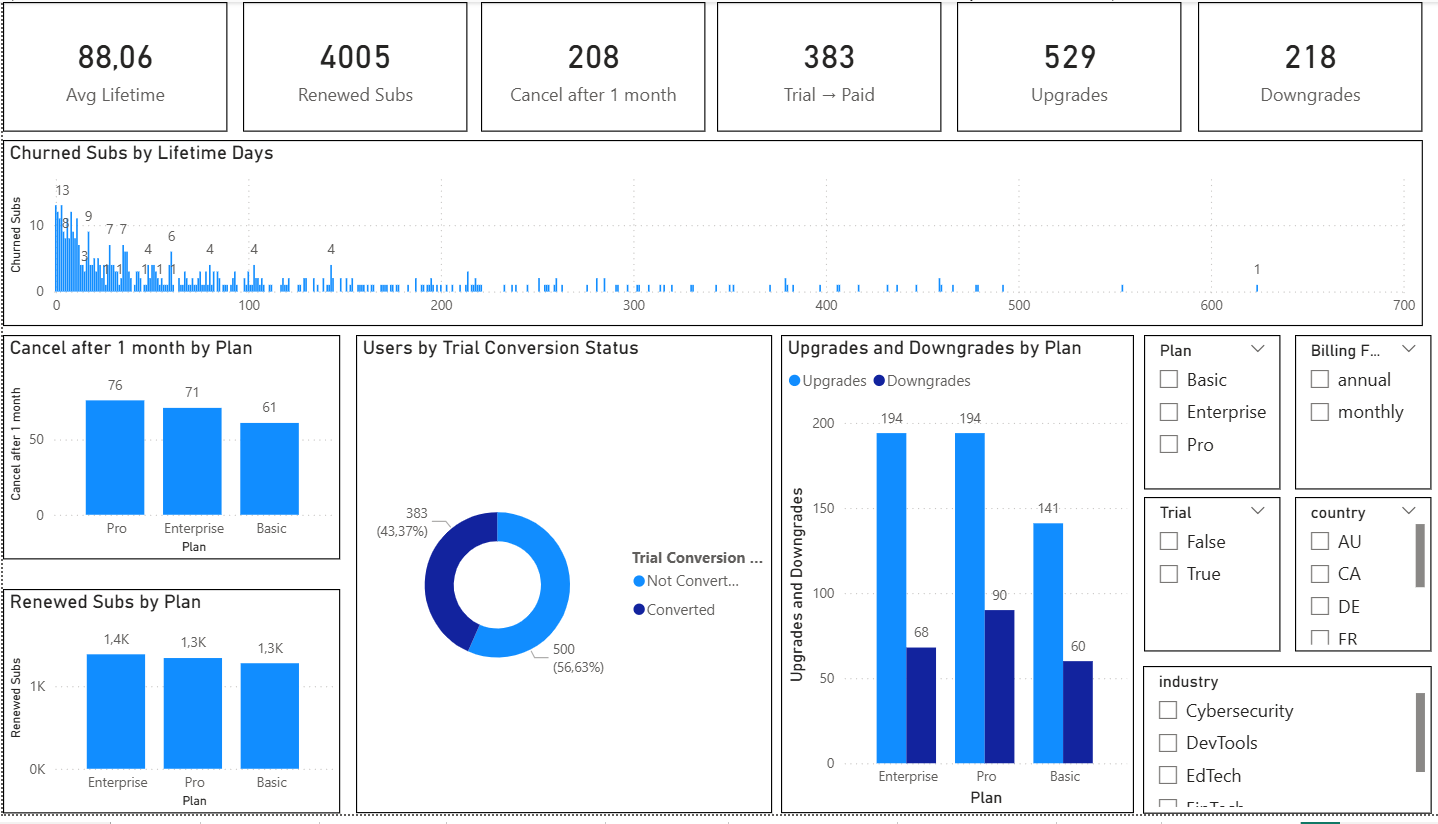

The dashboard page shown, as its layout file describes it:
{"tool":"powerbi","page":{"name":"Subscription Lifecycle","canvas":[1280,720],"ordinal":3},"visuals":[{"type":"card","fields":{"Values":["ravenstack_subscriptions.Avg Lifetime"]},"box":[0,0,199.4,114.8],"z":0},{"type":"card","fields":{"Values":["ravenstack_subscriptions.Renewed Subs"]},"box":[213,0,199.4,114.8],"z":1000},{"type":"card","fields":{"Values":["ravenstack_subscriptions.Cancel after 1 month"]},"box":[424.1,0,199.4,114.8],"z":2000},{"type":"card","fields":{"Values":["ravenstack_subscriptions.Trial → Paid"]},"box":[633.2,0,199.4,114.8],"z":3000},{"type":"card","fields":{"Values":["ravenstack_subscriptions.Upgrades"]},"box":[846.2,0,199.4,114.8],"z":4000},{"type":"card","fields":{"Values":["ravenstack_subscriptions.Downgrades"]},"box":[1059.2,0,199.4,114.8],"z":5000},{"type":"clusteredColumnChart","fields":{"Category":["ravenstack_subscriptions.Lifetime Days"],"Y":["ravenstack_subscriptions.Churned Subs"]},"box":[0,122.6,1258.6,165.3],"z":6000},{"type":"clusteredColumnChart","fields":{"Category":["ravenstack_subscriptions.plan_tier"],"Y":["ravenstack_subscriptions.Cancel after 1 month"]},"box":[0,295.7,298.6,199.4],"z":7000},{"type":"clusteredColumnChart","fields":{"Category":["ravenstack_subscriptions.plan_tier"],"Y":["ravenstack_subscriptions.Renewed Subs"]},"box":[0,520.4,298.6,199.4],"z":8000},{"type":"donutChart","fields":{"Category":["ravenstack_subscriptions.Trial Conversion Status"],"Y":["Count(ravenstack_subscriptions.account_id)"]},"box":[313.2,295.7,368.6,424.1],"z":9000},{"type":"clusteredColumnChart","fields":{"Category":["ravenstack_subscriptions.plan_tier"],"Y":["ravenstack_subscriptions.Upgrades","ravenstack_subscriptions.Downgrades"]},"box":[689.6,295.7,313.2,424.1],"z":10000},{"type":"slicer","fields":{"Values":["ravenstack_subscriptions.plan_tier"]},"box":[1011.6,295.7,120.6,137.1],"z":11000},{"type":"slicer","fields":{"Values":["ravenstack_subscriptions.billing_frequency"]},"box":[1145.8,295.7,120.6,137.1],"z":12000},{"type":"slicer","fields":{"Values":["ravenstack_subscriptions.is_trial"]},"box":[1011.6,438.7,120.6,137.1],"z":13000},{"type":"slicer","fields":{"Values":["ravenstack_accounts.country"]},"box":[1145.8,438.7,120.6,137.1],"z":14000},{"type":"slicer","fields":{"Values":["ravenstack_accounts.industry"]},"box":[1010.6,588.4,255.8,131.3],"z":15000}]}

Visuals, with their boxes in screenshot pixels (x1, y1, x2, y2), scaled from the page's 1280x720 canvas onto the 1438x824 screenshot:
card - ravenstack_subscriptions.Avg Lifetime: <region>0, 0, 224, 131</region>
card - ravenstack_subscriptions.Renewed Subs: <region>239, 0, 463, 131</region>
card - ravenstack_subscriptions.Cancel after 1 month: <region>476, 0, 700, 131</region>
card - ravenstack_subscriptions.Trial → Paid: <region>711, 0, 935, 131</region>
card - ravenstack_subscriptions.Upgrades: <region>951, 0, 1175, 131</region>
card - ravenstack_subscriptions.Downgrades: <region>1190, 0, 1414, 131</region>
clusteredColumnChart - ravenstack_subscriptions.Lifetime Days x ravenstack_subscriptions.Churned Subs: <region>0, 140, 1414, 329</region>
clusteredColumnChart - ravenstack_subscriptions.plan_tier x ravenstack_subscriptions.Cancel after 1 month: <region>0, 338, 335, 567</region>
clusteredColumnChart - ravenstack_subscriptions.plan_tier x ravenstack_subscriptions.Renewed Subs: <region>0, 596, 335, 823</region>
donutChart - ravenstack_subscriptions.Trial Conversion Status x Count(ravenstack_subscriptions.account_id): <region>352, 338, 766, 823</region>
clusteredColumnChart - ravenstack_subscriptions.plan_tier x ravenstack_subscriptions.Upgrades: <region>775, 338, 1127, 823</region>
slicer - ravenstack_subscriptions.plan_tier: <region>1136, 338, 1272, 495</region>
slicer - ravenstack_subscriptions.billing_frequency: <region>1287, 338, 1423, 495</region>
slicer - ravenstack_subscriptions.is_trial: <region>1136, 502, 1272, 659</region>
slicer - ravenstack_accounts.country: <region>1287, 502, 1423, 659</region>
slicer - ravenstack_accounts.industry: <region>1135, 673, 1423, 823</region>
